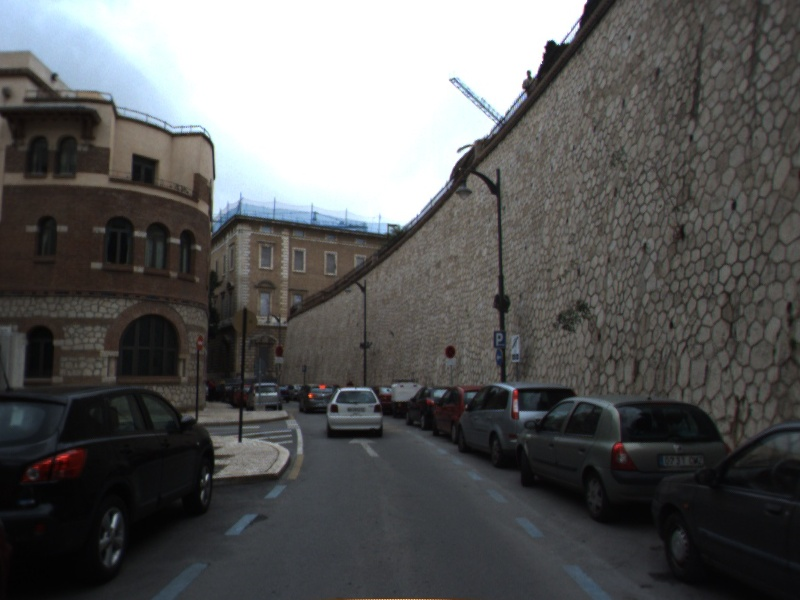STRAIGHT: (346, 435, 381, 459)
